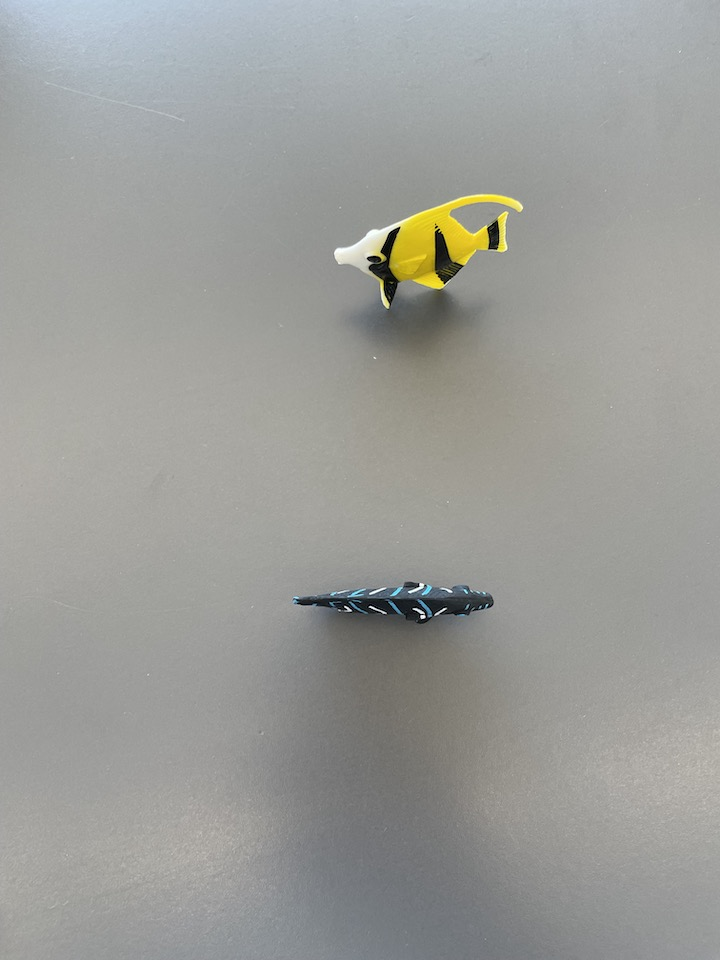danger: (331, 193, 525, 309)
fish: (292, 579, 497, 625)
